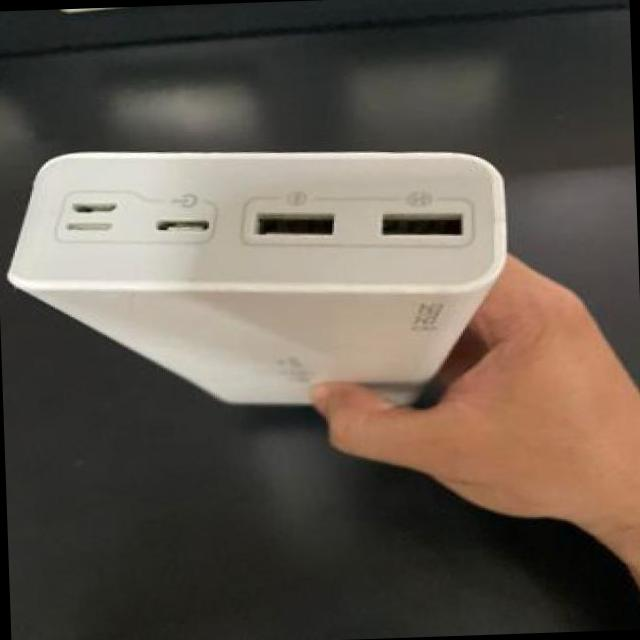power_bank: (0, 82, 518, 436)
